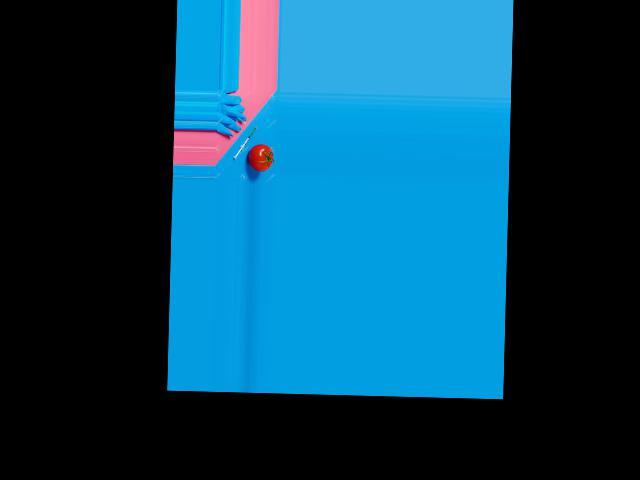tomato: (247, 143, 272, 171)
